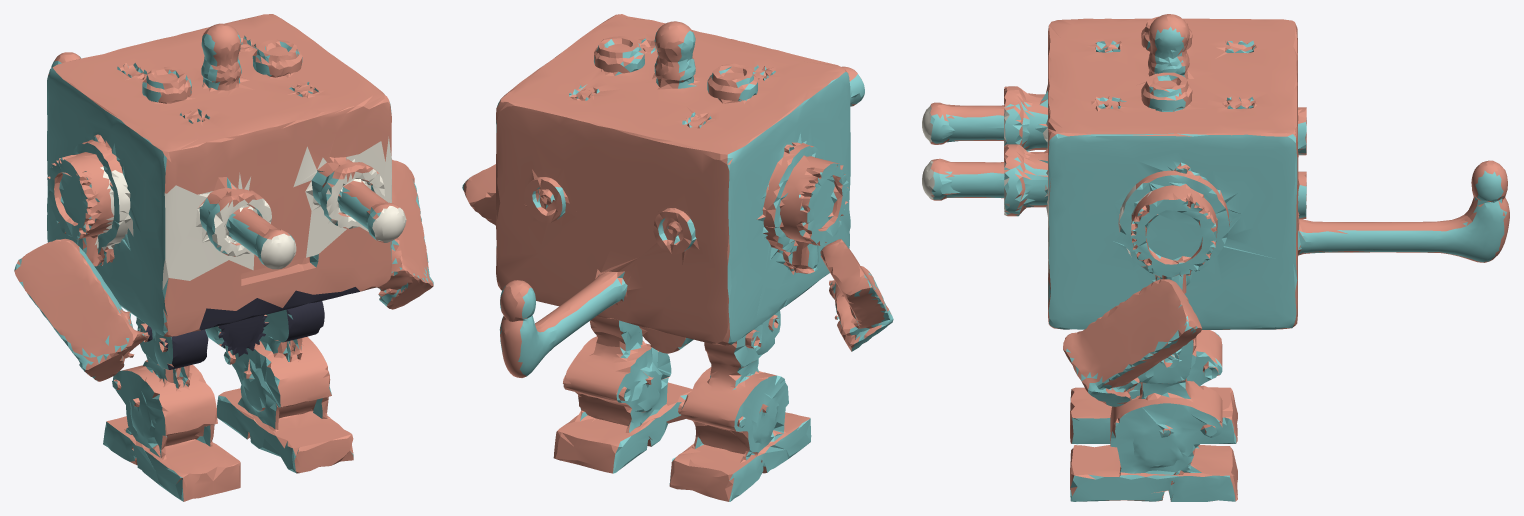
Rendered from schizo_character.glb.
3 renders of one model, left to right at view 1: azimuth 30°, elevation 25°; view 2: azimuth 150°, elevation 25°; view 3: azimuth 270°, elevation 25°, orthographic. The views are drawn at different scales.
Visible parts, largest first — view 1: CubeCharacter; view 2: CubeCharacter; view 3: CubeCharacter.
Boxes of the visible parts, x1=… form: CubeCharacter: x1=14, y1=14, x2=433, y2=501; CubeCharacter: x1=462, y1=14, x2=893, y2=501; CubeCharacter: x1=922, y1=14, x2=1509, y2=501.
Size of the model in its own units: 3.12 by 3.15 by 3.79.
